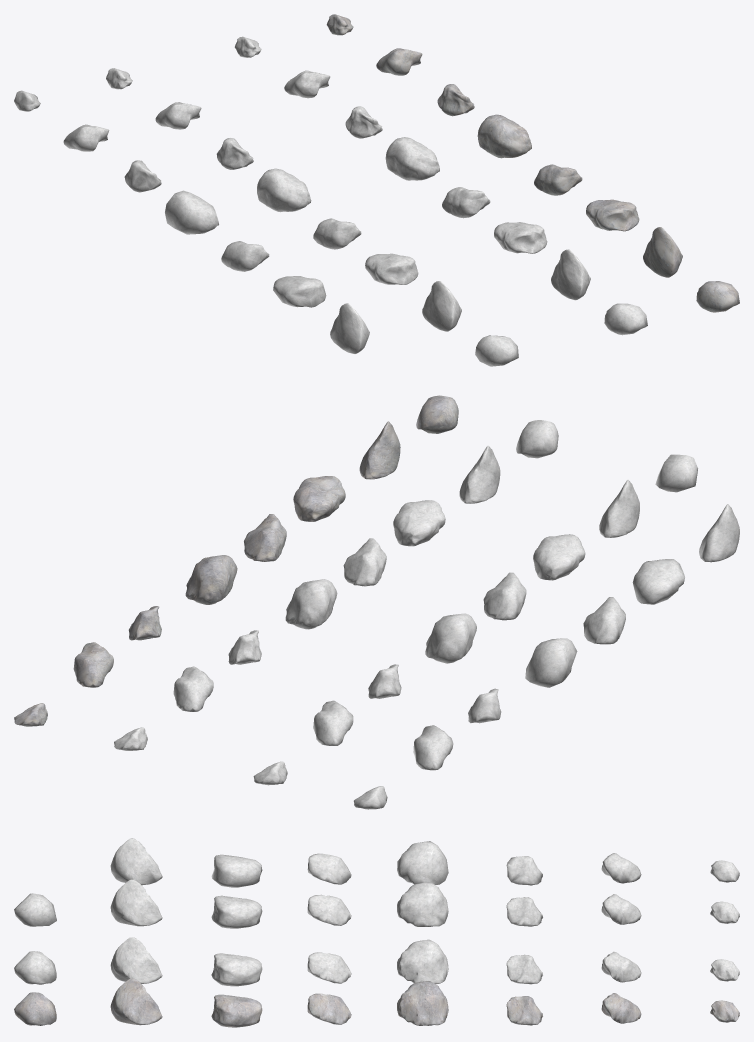
The model's file is grey_white_rocks.glb.
3 renders of one model, top to bottom at view 1: azimuth 30°, elevation 25°; view 2: azimuth 150°, elevation 25°; view 3: azimuth 270°, elevation 25°, orthographic. The views are drawn at different scales.
Visible parts, largest first — view 1: rock_00_all_presentation; view 2: rock_00_all_presentation; view 3: rock_00_all_presentation.
Boxes of the visible parts, x1=… form: rock_00_all_presentation: x1=14, y1=14, x2=739, y2=366; rock_00_all_presentation: x1=14, y1=395, x2=739, y2=809; rock_00_all_presentation: x1=14, y1=838, x2=739, y2=1027.
Bounding box in the file's own units: 19.54 × 2.42 × 37.26.
2 materials, 2 textured.
